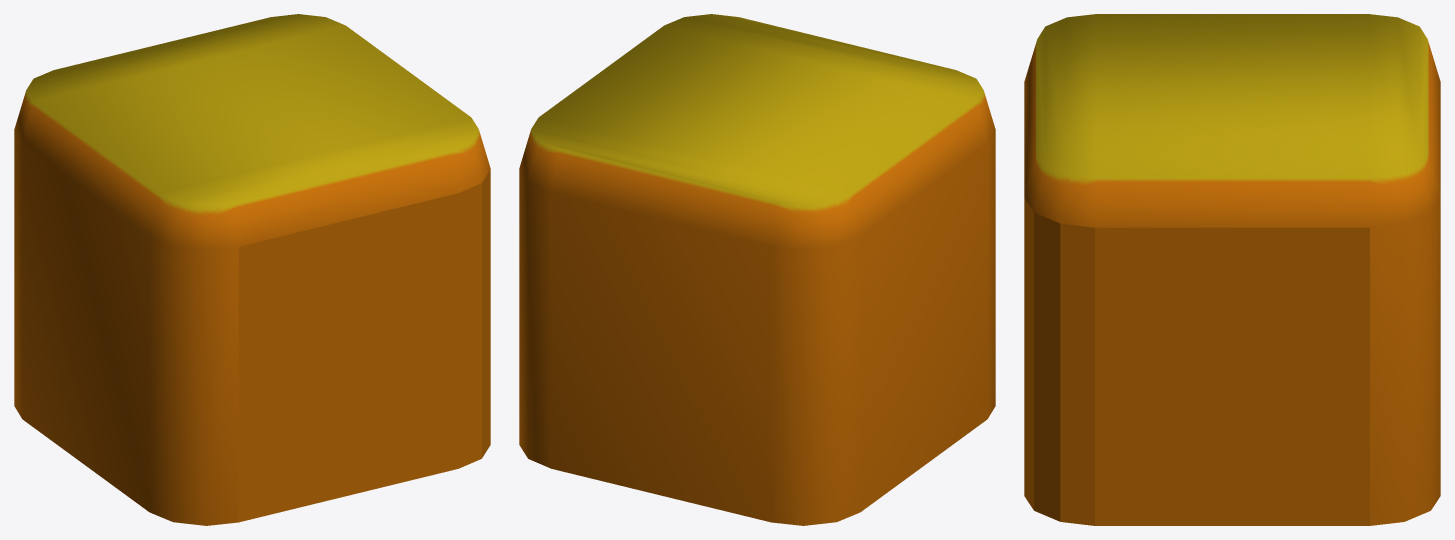
File: cube_Finish.fbx
3 views of the same model, side by side, from view 1: azimuth 30°, elevation 25°; view 2: azimuth 150°, elevation 25°; view 3: azimuth 270°, elevation 25° (orthographic). The views are drawn at different scales.
Parts seen in each view (by area): view 1: cube_Blue; view 2: cube_Blue; view 3: cube_Blue.
Boxes of the visible parts, x1=… form: cube_Blue: x1=14, y1=14, x2=490, y2=525; cube_Blue: x1=519, y1=14, x2=995, y2=525; cube_Blue: x1=1024, y1=14, x2=1440, y2=525.
Bounding box in the file's own units: 100 × 90.58 × 100.
